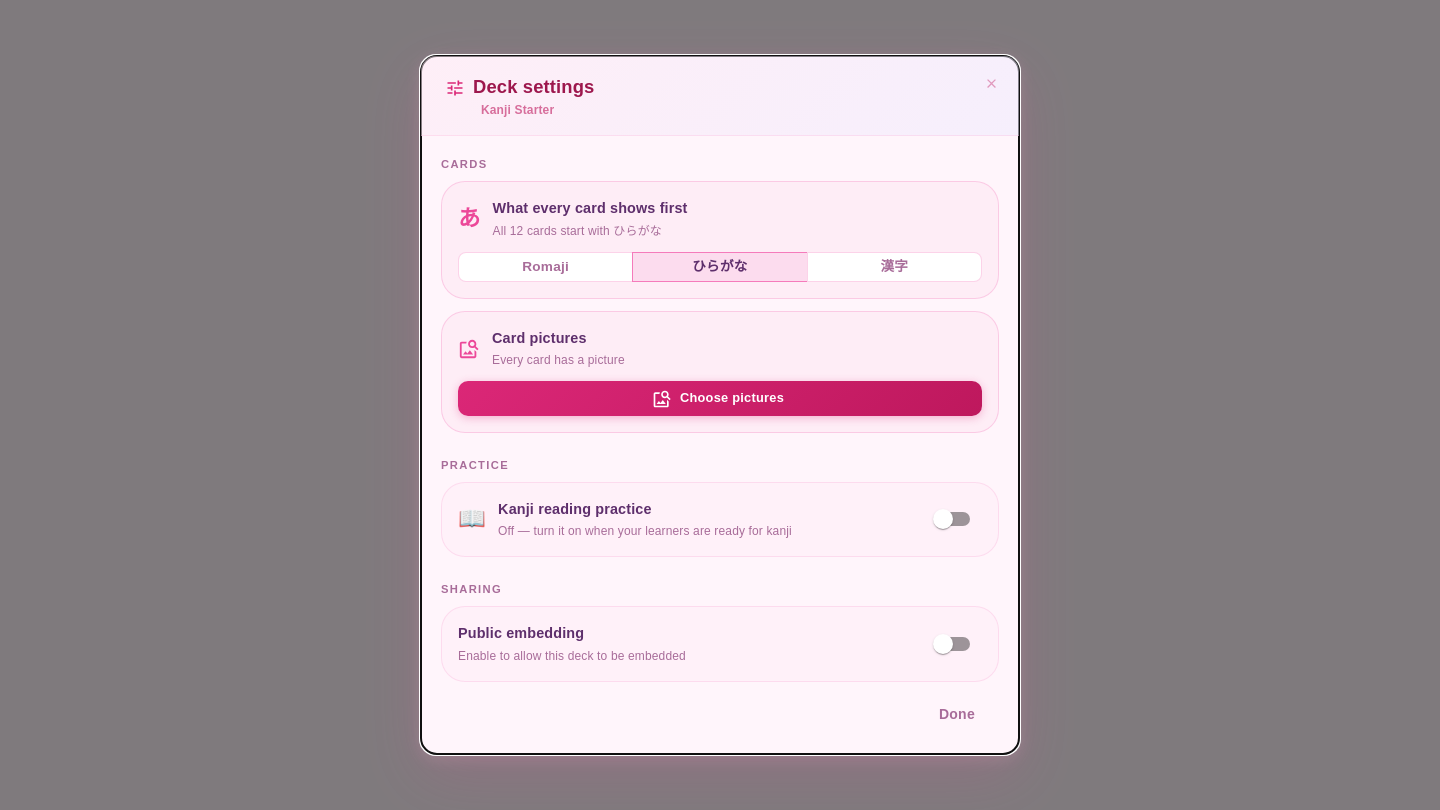
Scenario: DeckSettingsDialog › changes every card to the picked view mode
The width and height of the screenshot is (1440, 810).
Expected: the text "All 12 cards start with ひらがな" is shown, [492,222,688,240]
Click the button "漢字".
click(894, 267)  # box [807,252,982,282]
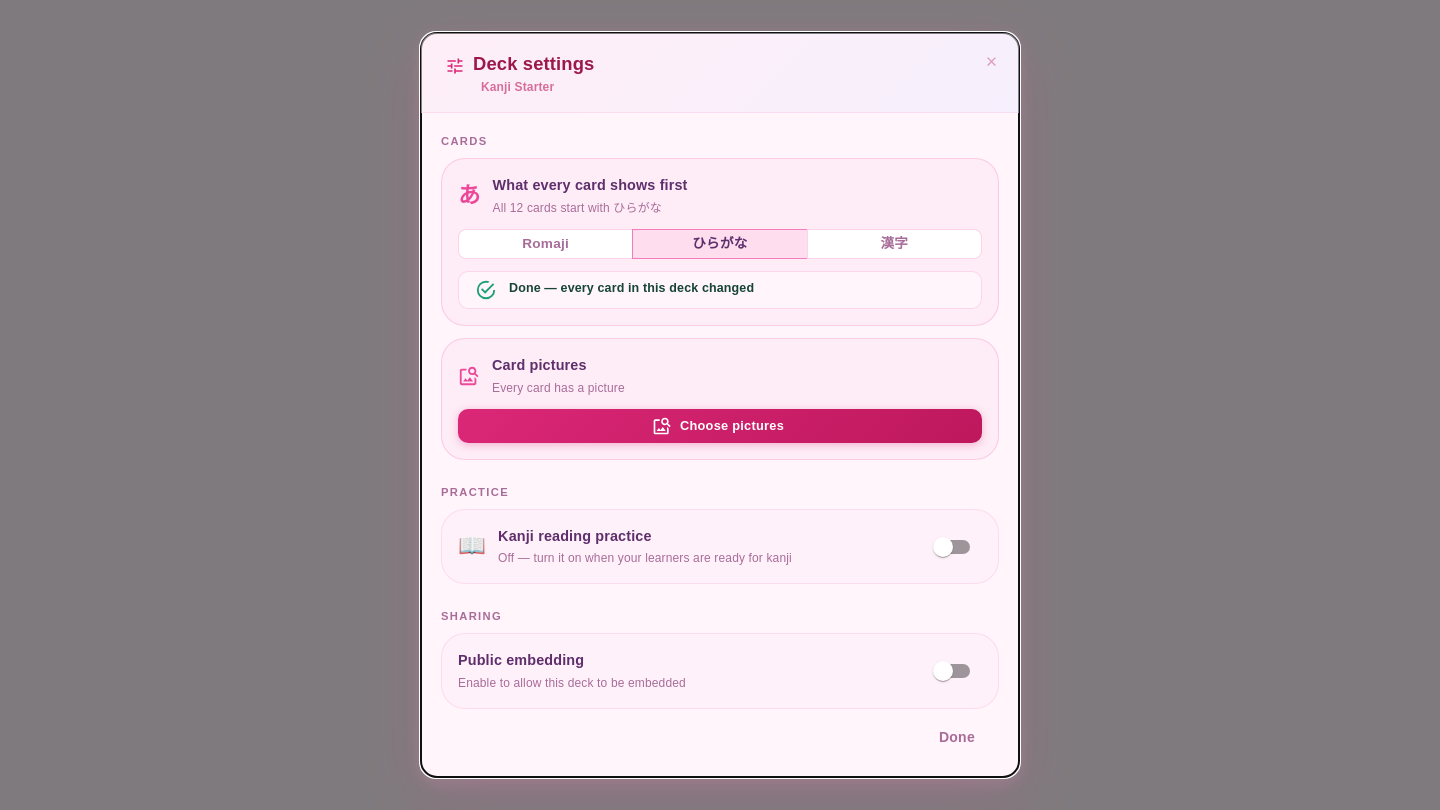
Result: the text "Done — every card in this deck changed" is shown at [509,281,754,295]
